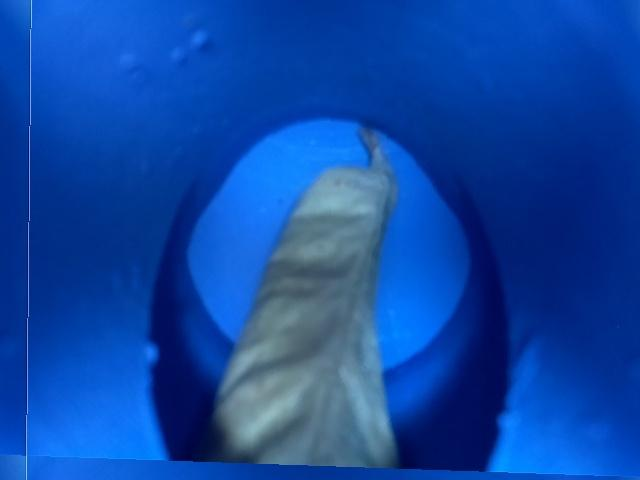feuille: (186, 114, 432, 469)
